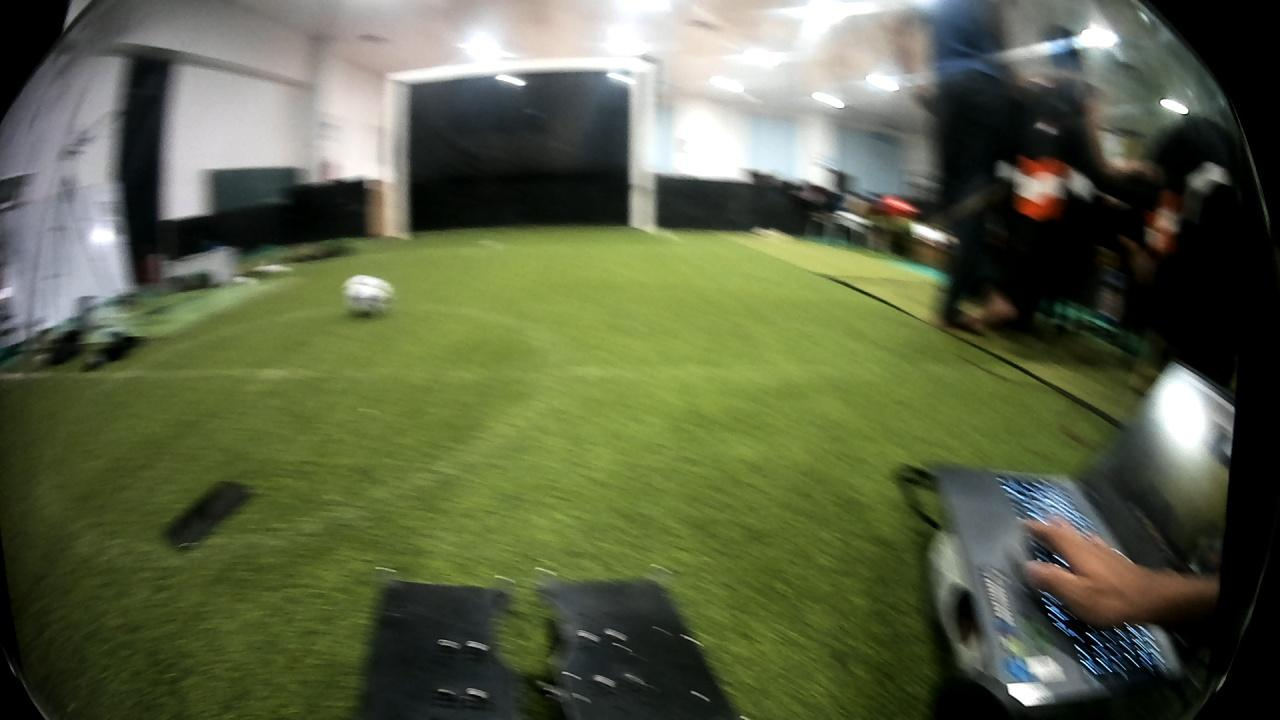ball: (337, 271, 398, 320)
